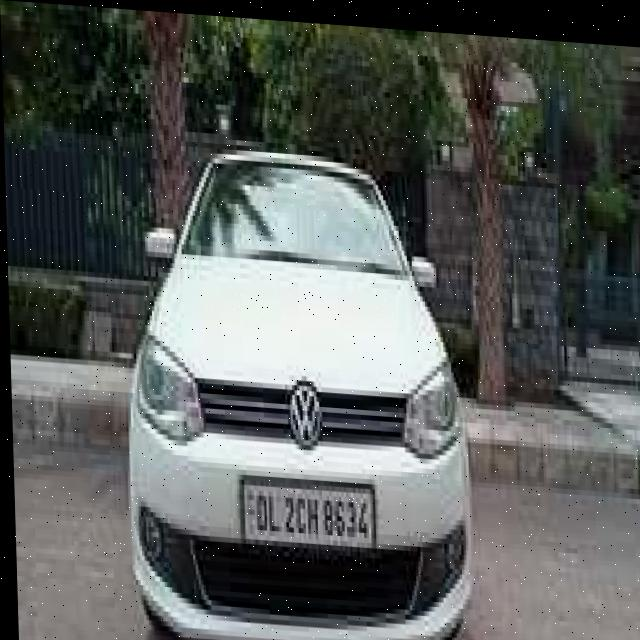plate: (236, 469, 373, 550)
